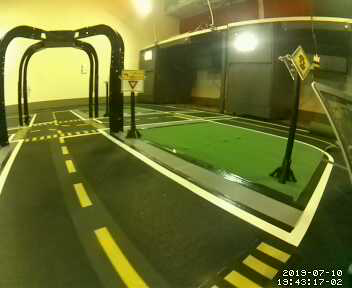Turn Yield: (120, 69, 144, 92)
